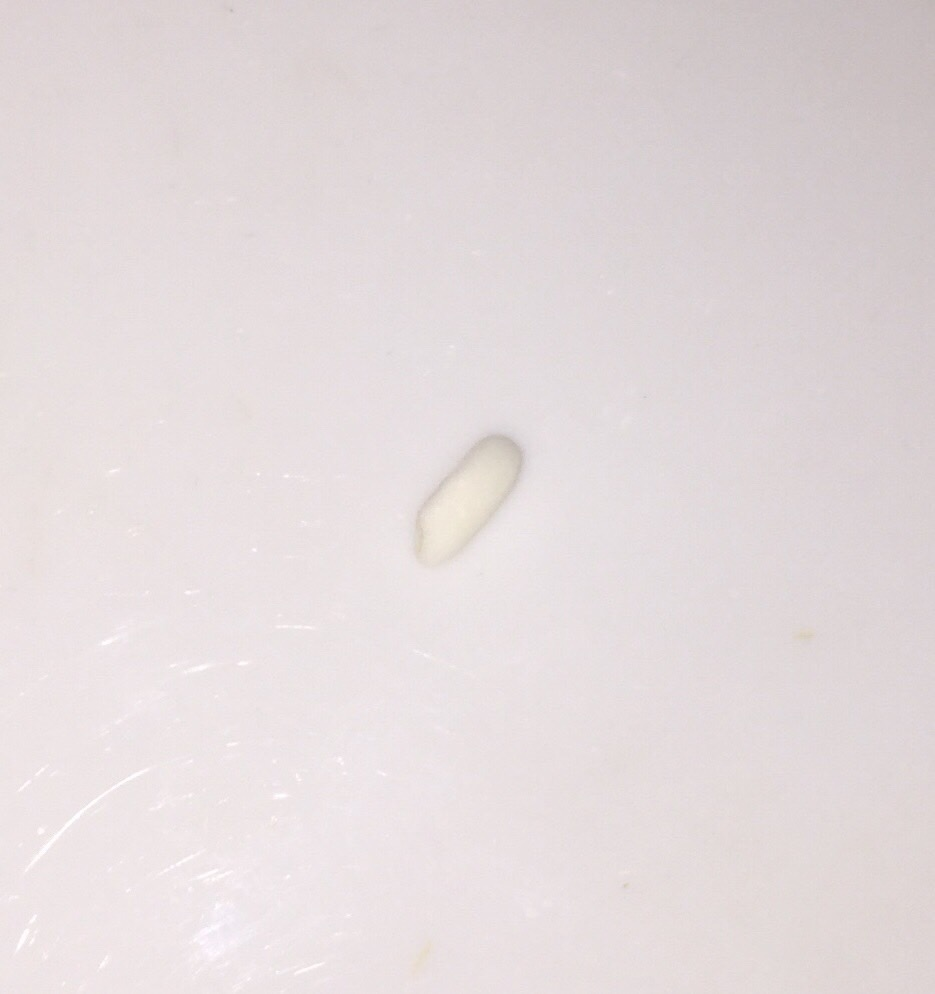Gao Nep Sap: (404, 424, 526, 571)
